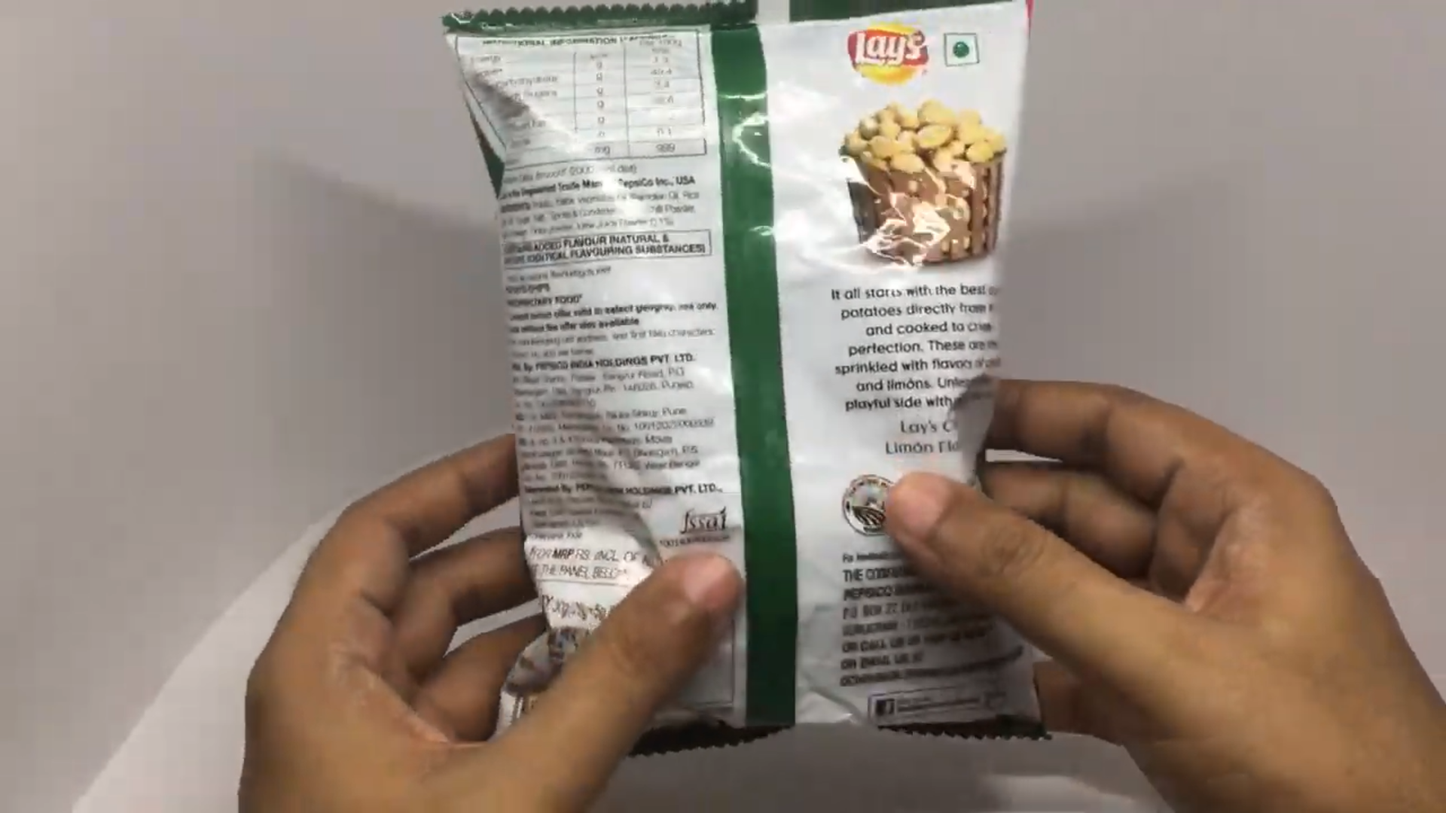plastic: (439, 2, 1054, 754)
